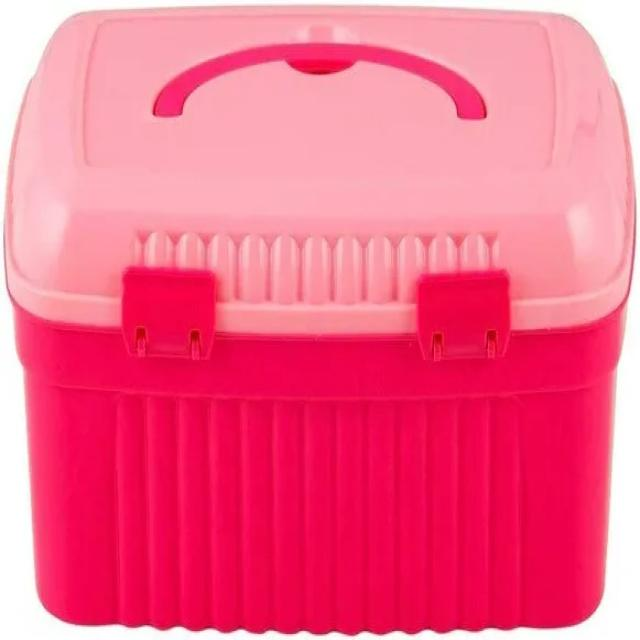plastic_box: (11, 5, 640, 640)
